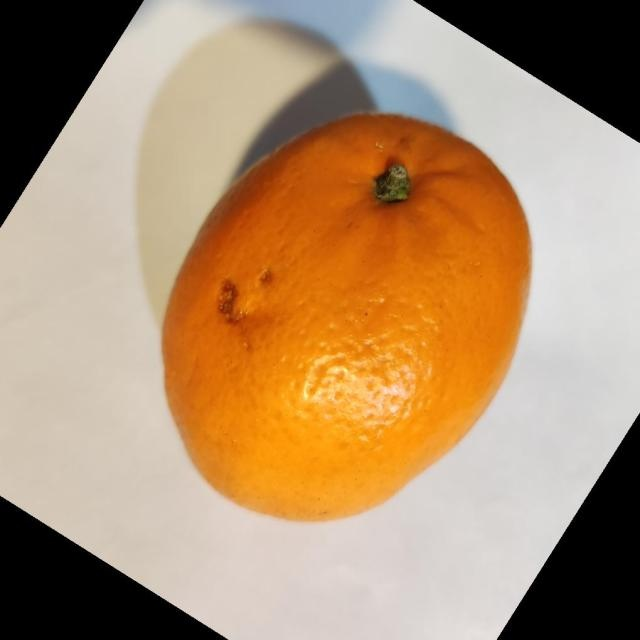agrume: (159, 110, 533, 522)
